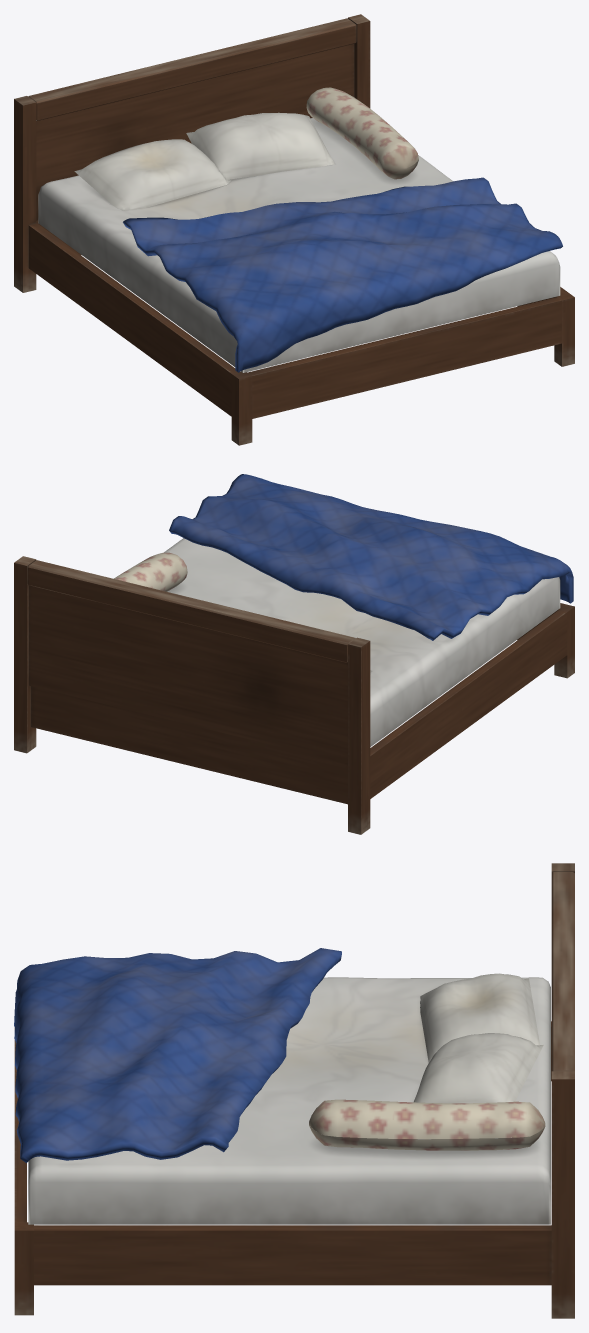
The model's file is bed.glb.
3 renders of one model, top to bottom at view 1: azimuth 30°, elevation 25°; view 2: azimuth 150°, elevation 25°; view 3: azimuth 270°, elevation 25°, orthographic. The views are drawn at different scales.
Visible parts, largest first — view 1: Bed; view 2: Bed; view 3: Bed.
Part boxes in pixels (x1=…): Bed: x1=14, y1=14, x2=574, y2=445; Bed: x1=14, y1=474, x2=574, y2=834; Bed: x1=14, y1=863, x2=574, y2=1318.
Bounding box in the file's own units: 1.86 × 0.96 × 2.04.
Materials: 1 (1 with a texture image).
